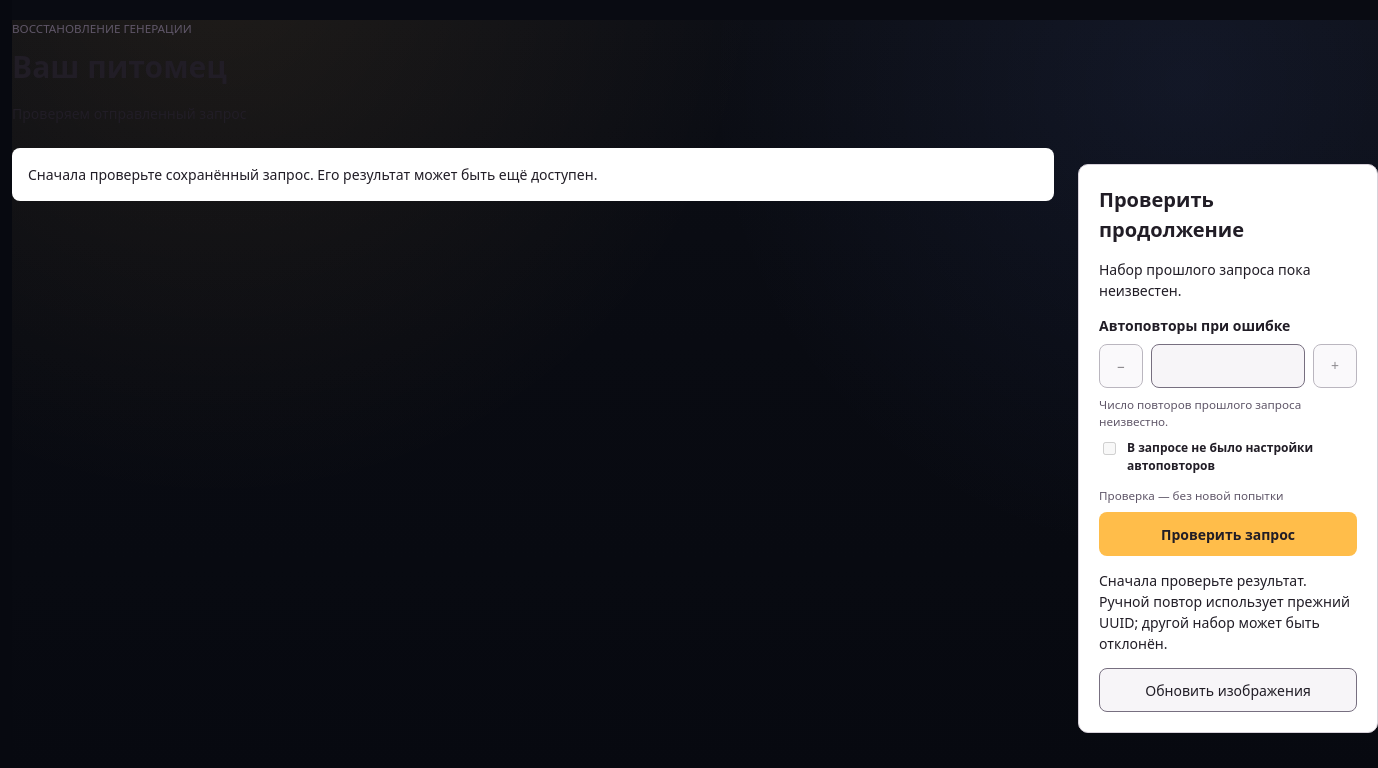
ends recovery only when the receipt endpoint reports expiry
Click the button "Проверить запрос" at (1228, 534), box [1099,512,1357,556]
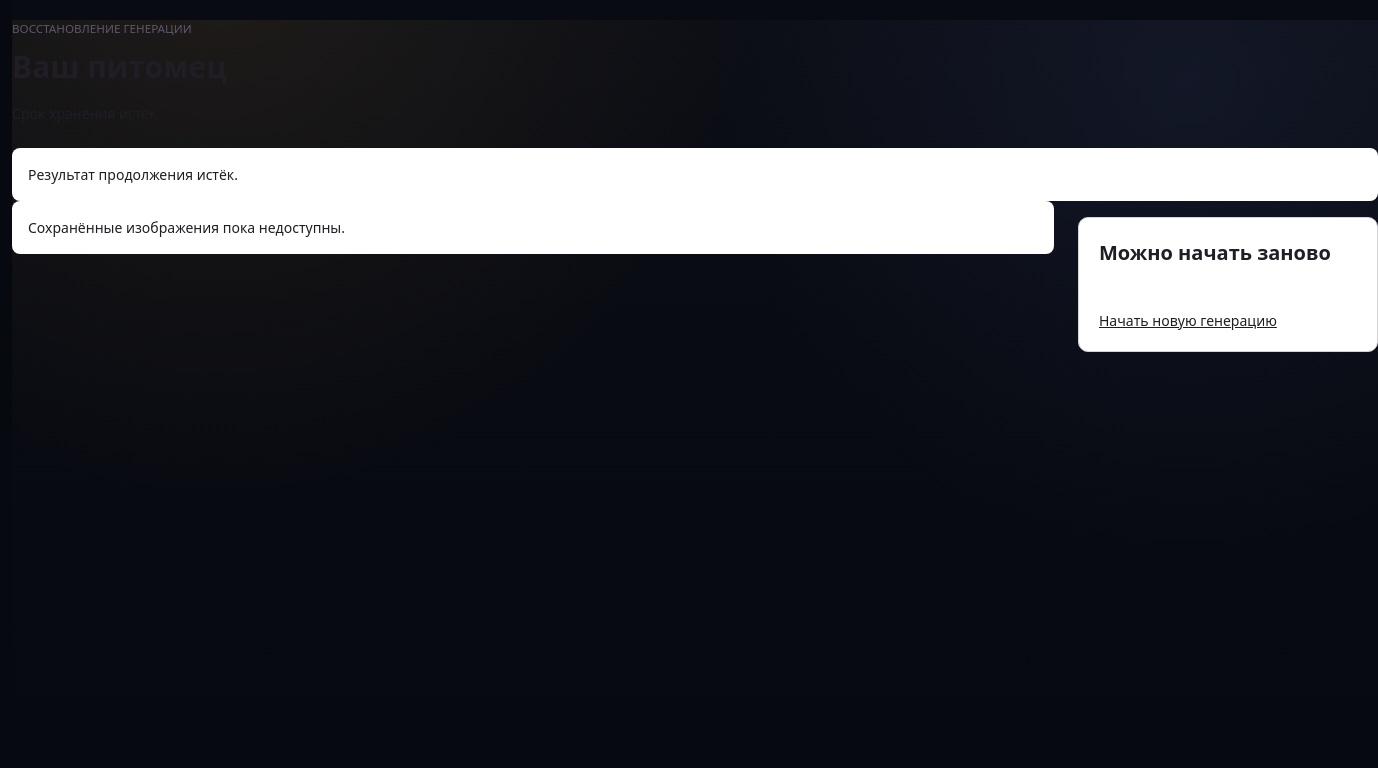
Expected: the text "Результат продолжения истёк." is shown, [12,148,1377,200]
Expected: the link to "/generate" is shown, [1099,310,1277,330]
